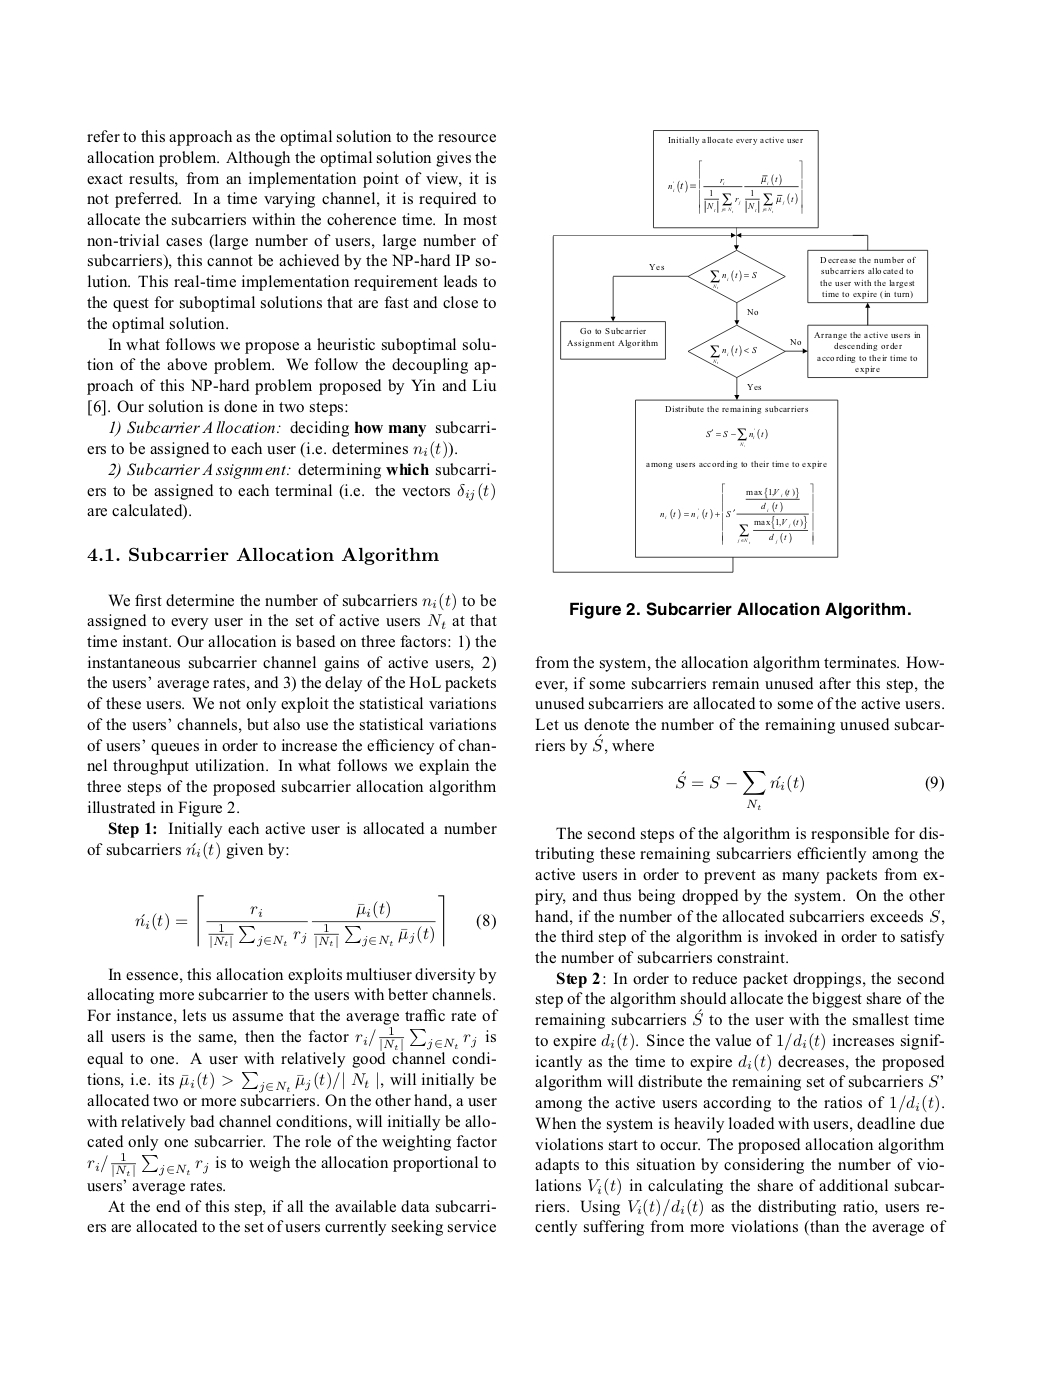figure: (552, 129, 928, 573)
formula: (135, 894, 495, 948), (676, 771, 943, 809)
